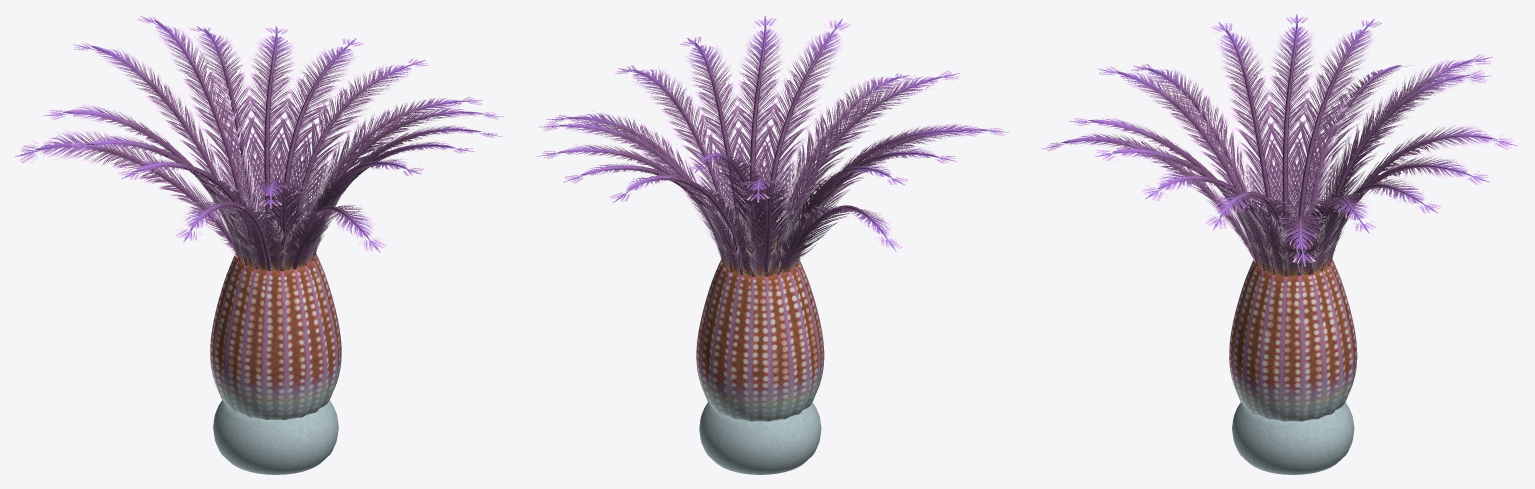
The model's file is xianguangia.obj.
3 views of the same model, side by side, from view 1: azimuth 30°, elevation 25°; view 2: azimuth 150°, elevation 25°; view 3: azimuth 270°, elevation 25° (orthographic). The views are drawn at different scales.
Visible parts, largest first — view 1: xianguangia:pCylinder22; view 2: xianguangia:pCylinder22; view 3: xianguangia:pCylinder22.
Part boxes in pixels (box(x1,y1,x2,y2)): xianguangia:pCylinder22: box(15, 15, 503, 474); xianguangia:pCylinder22: box(537, 16, 1009, 474); xianguangia:pCylinder22: box(1042, 14, 1517, 474).
Bounding box in the file's own units: 7.92 × 6.87 × 8.03.
1 material, 1 textured.
